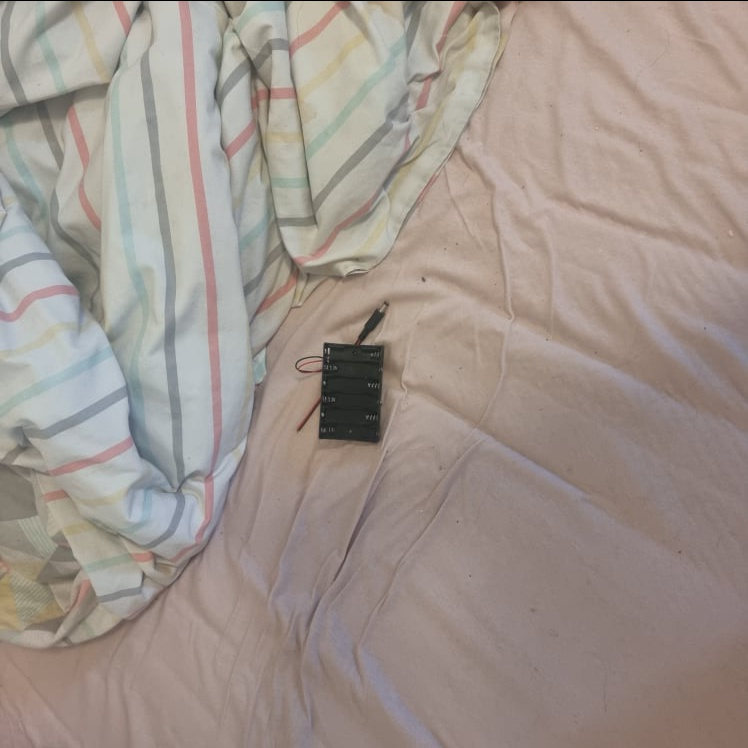BATTERY BOX: (318, 340, 387, 445)
